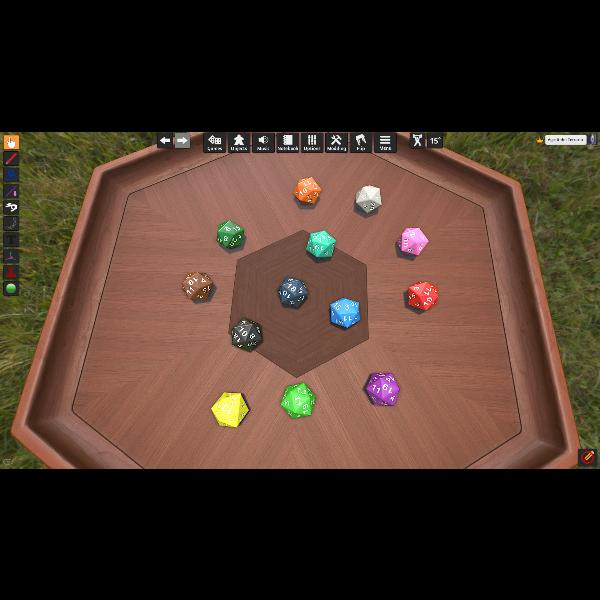d20: (212, 392, 248, 426), (281, 383, 315, 417), (230, 318, 264, 350), (364, 372, 394, 404), (328, 299, 358, 329), (306, 230, 336, 258), (278, 277, 306, 307), (406, 282, 436, 310), (182, 272, 212, 300), (216, 220, 244, 248), (292, 177, 320, 205), (403, 227, 430, 255), (356, 184, 382, 212)
